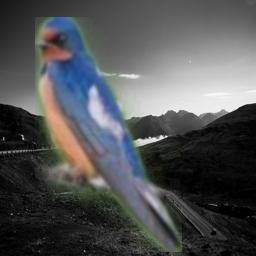Swallow: (35, 17, 182, 252)
